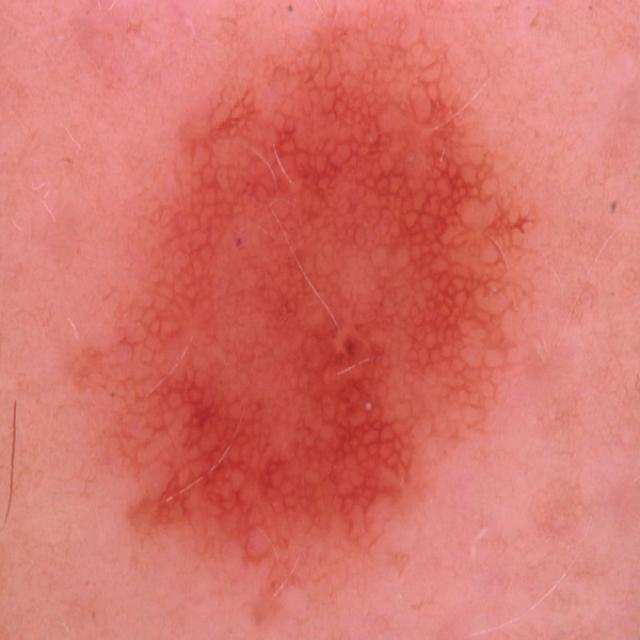NV: (69, 16, 540, 614)
